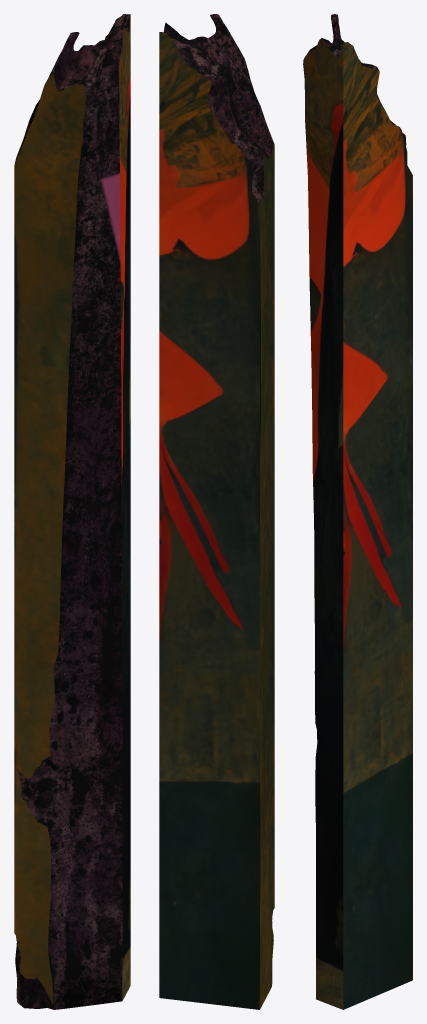
File: column4.glb
3 renders of one model, left to right at view 1: azimuth 30°, elevation 25°; view 2: azimuth 210°, elevation 25°; view 3: azimuth 270°, elevation 25°, orthographic.
Visible parts, largest first — view 1: Column.003; view 2: Column.003; view 3: Column.003.
Boxes of the visible parts, bbox=[...] form: Column.003: bbox=[14, 14, 130, 1009]; Column.003: bbox=[159, 14, 274, 1009]; Column.003: bbox=[303, 14, 412, 1009].
Size of the model in its own units: 0.2293 by 2.01 by 0.206.
2 materials, 2 textured.
